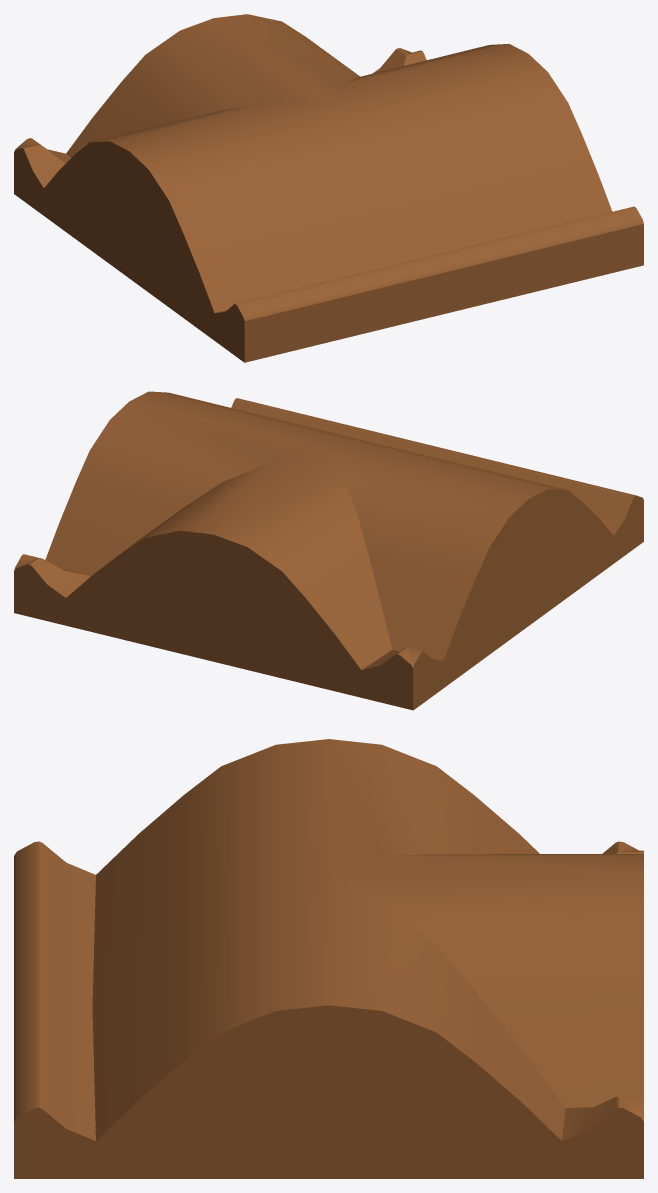
The model's file is 014_016_017_wall_deco_3_joins.glb.
The picture shows the model from 3 angles, top to bottom: view 1: azimuth 30°, elevation 25°; view 2: azimuth 150°, elevation 25°; view 3: azimuth 270°, elevation 25°; orthographic projection. The views are drawn at different scales.
Parts seen in each view (by area): view 1: Plane; view 2: Plane; view 3: Plane.
Boxes of the visible parts, x1=… form: Plane: x1=14, y1=14, x2=643, y2=362; Plane: x1=14, y1=391, x2=643, y2=710; Plane: x1=14, y1=739, x2=643, y2=1178.
Bounding box in the file's own units: 0.75 × 0.2282 × 0.75.
